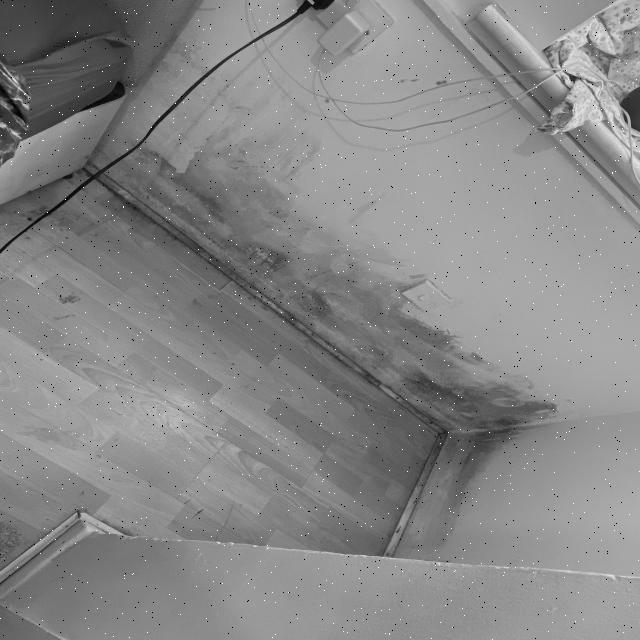stain marks: (92, 141, 369, 202), (420, 361, 569, 468), (354, 264, 496, 363), (167, 211, 407, 263), (256, 260, 350, 346), (417, 474, 480, 564), (358, 360, 426, 413)
